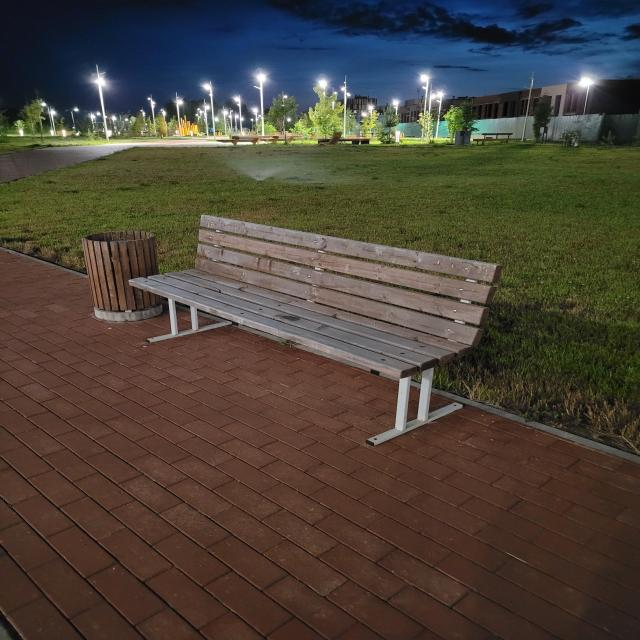Bench: (129, 215, 503, 447)
